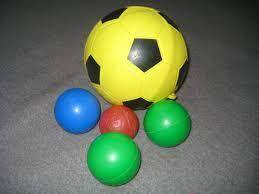Ball: (82, 6, 191, 102), (87, 132, 142, 187), (144, 100, 192, 151), (55, 88, 100, 134)
